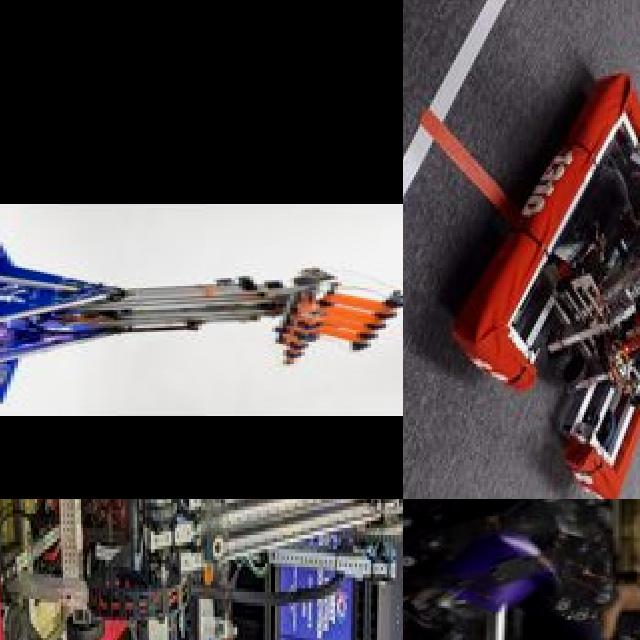FRC-Robots: (424, 45, 640, 499), (0, 219, 403, 410), (0, 499, 403, 640), (403, 499, 622, 640)
